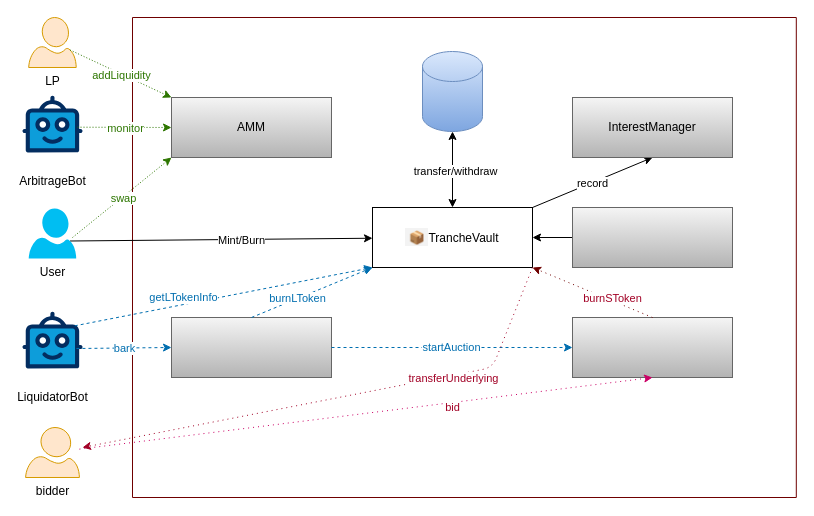
Some shapes in this 814 by 516 pixel diagram are drawn without their labels. The shapes that lost their labels are listed below. From the top down, each one's centre as x and y in pixels, then its label:
At (452,91): "Treasury".
At (652,237): "Oracle".
At (251,347): "LiquidationManager".
At (652,347): "AucationManager".
